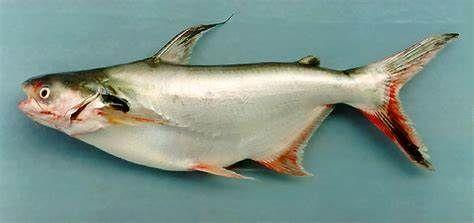Pangasius: (19, 19, 459, 182)
